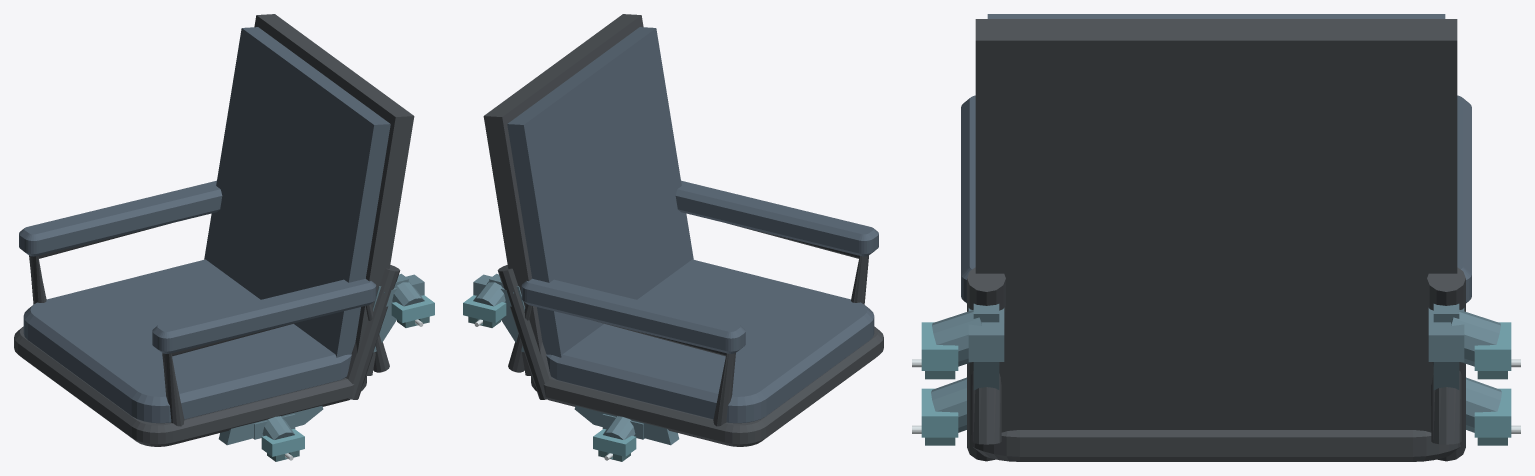
The picture shows the model from 3 angles, left to right: view 1: azimuth 30°, elevation 25°; view 2: azimuth 150°, elevation 25°; view 3: azimuth 270°, elevation 25°; orthographic projection. The views are drawn at different scales.
Visible parts, largest first — view 1: S08_Cabin, S08_Cabin_Mount_M, S08_Cabin_HighDocks; view 2: S08_Cabin, S08_Cabin_Mount_M, S08_Cabin_HighDocks; view 3: S08_Cabin, S08_Cabin_HighDocks, S08_Cabin_Mount_M.
Part boxes in pixels (left/top/right/bottom): S08_Cabin: left=14, top=14, right=414, bottom=446; S08_Cabin_Mount_M: left=253, top=414, right=304, bottom=461; S08_Cabin_HighDocks: left=384, top=274, right=434, bottom=327; S08_Cabin: left=483, top=14, right=883, bottom=446; S08_Cabin_Mount_M: left=593, top=414, right=644, bottom=461; S08_Cabin_HighDocks: left=463, top=274, right=513, bottom=327; S08_Cabin: left=961, top=14, right=1471, bottom=461; S08_Cabin_HighDocks: left=912, top=308, right=1520, bottom=379; S08_Cabin_Mount_M: left=912, top=377, right=1520, bottom=445.
Size of the model in its own units: 0.5135 by 0.5316 by 0.564.
